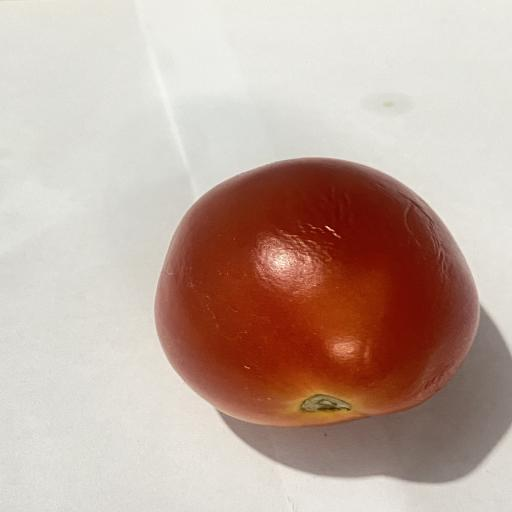overipe: (155, 158, 479, 427)
